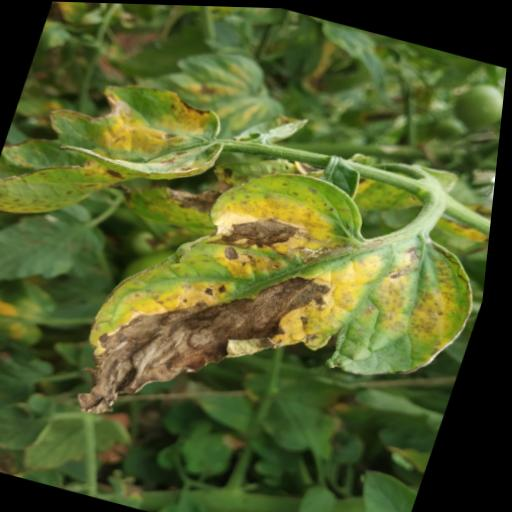Early Blight: (46, 123, 502, 508)
